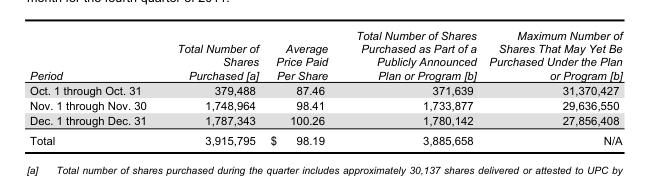table: (29, 29, 621, 146)
table column: (341, 29, 482, 146), (482, 29, 621, 146), (29, 29, 161, 146), (161, 29, 263, 146), (263, 29, 341, 146)
table column header: (29, 29, 621, 82)
table row: (29, 29, 621, 82), (29, 112, 621, 129), (29, 129, 621, 146), (29, 82, 621, 97), (29, 97, 621, 112)
